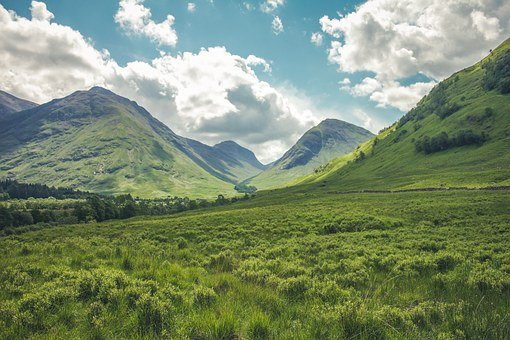field: (10, 155, 508, 338)
mountain: (9, 85, 372, 201)
sky: (3, 2, 510, 114)
